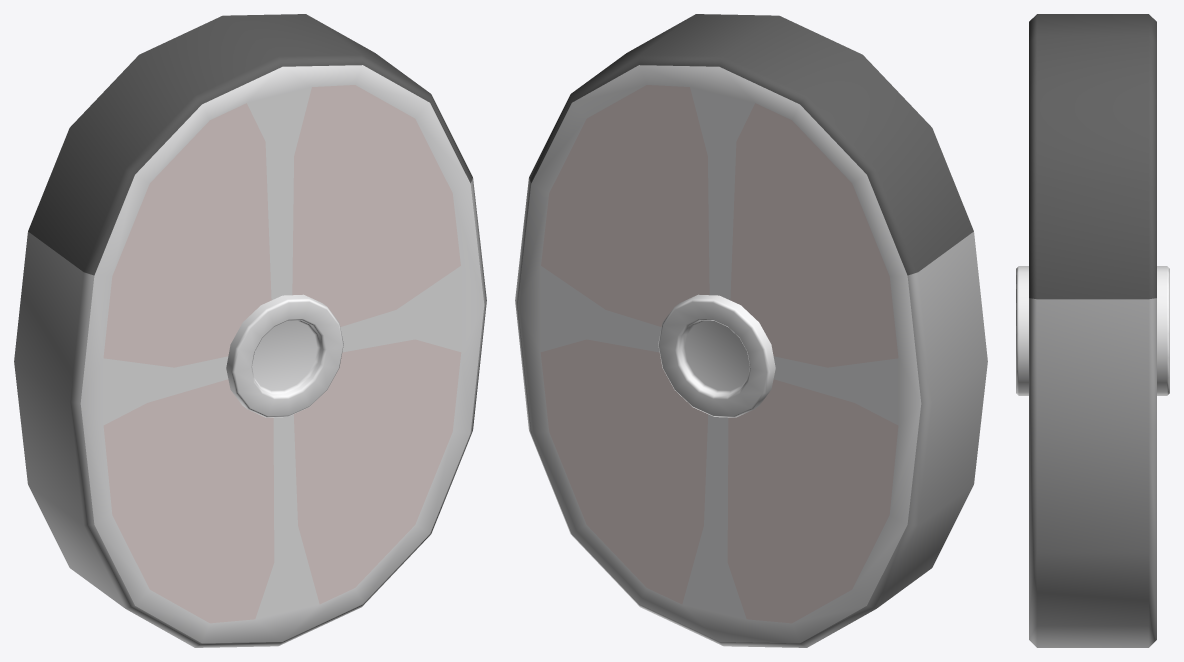
File: SeaBass_2_Slice.fbx
3 views of the same model, side by side, from view 1: azimuth 30°, elevation 25°; view 2: azimuth 150°, elevation 25°; view 3: azimuth 270°, elevation 25° (orthographic).
Parts seen in each view (by area): view 1: SeaBass_2_Slice; view 2: SeaBass_2_Slice; view 3: SeaBass_2_Slice.
Part boxes in pixels (x1,y1,x2,y2): SeaBass_2_Slice: (14,14,486,647); SeaBass_2_Slice: (515,14,987,647); SeaBass_2_Slice: (1016,14,1169,647).
Bounding box in the file's own units: 20.49 × 27.69 × 6.55.
